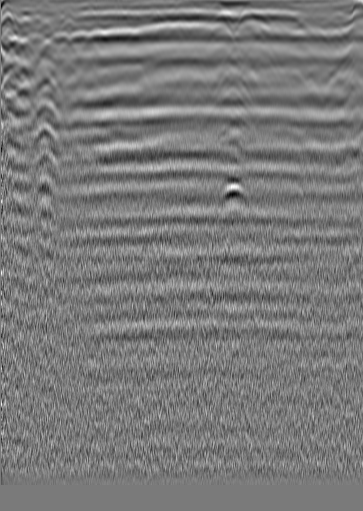가스: (218, 178, 246, 205)
상수: (313, 30, 333, 50)
오수: (33, 34, 62, 65)
우수: (164, 22, 184, 42)
